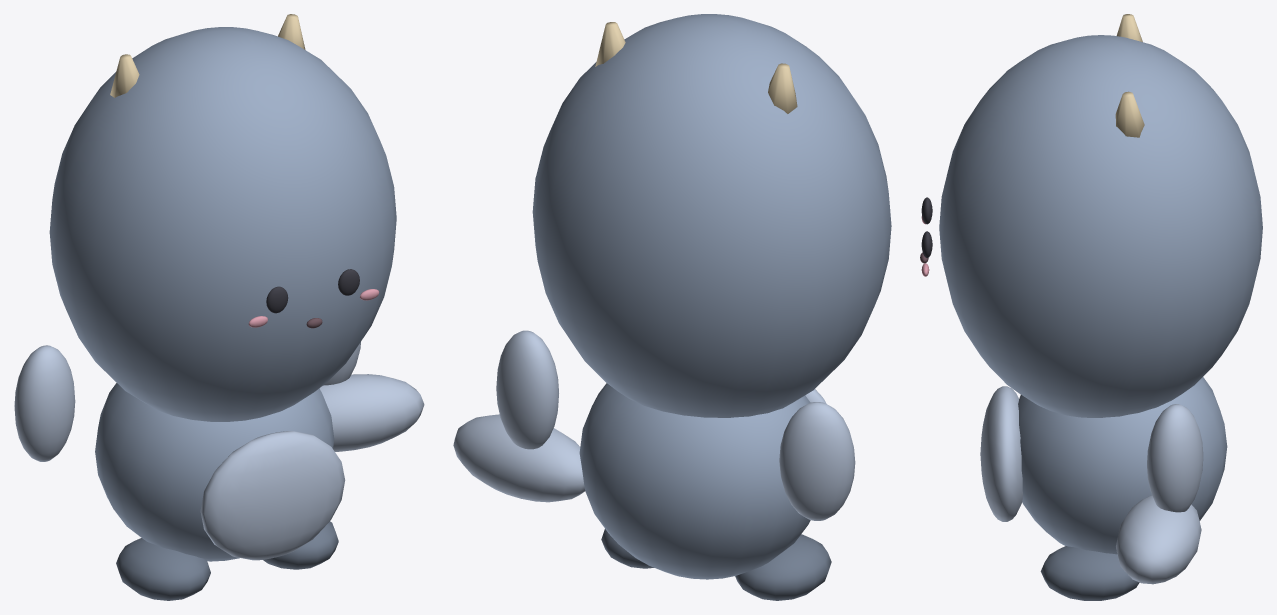
The model's file is tiny-wing-dragon.glb.
3 renders of one model, left to right at view 1: azimuth 30°, elevation 25°; view 2: azimuth 150°, elevation 25°; view 3: azimuth 270°, elevation 25°, orthographic. The views are drawn at different scales.
Visible parts, largest first — view 1: Head, Body, Belly, Tail, Wing_L, FootPad_L, FootPad_R, Horn_L, Horn_R; view 2: Head, Body, Tail, Wing_L, Wing_R, FootPad_L, Horn_L, Horn_R, FootPad_R; view 3: Head, Body, Tail, Wing_R, Belly, FootPad_R, Horn_R, Horn_L.
Part boxes in pixels (x1=…): Head: x1=49, y1=27, x2=396, y2=421; Body: x1=95, y1=383, x2=334, y2=561; Belly: x1=200, y1=431, x2=345, y2=560; Tail: x1=319, y1=374, x2=424, y2=451; Wing_L: x1=14, y1=345, x2=75, y2=461; FootPad_L: x1=116, y1=538, x2=210, y2=600; FootPad_R: x1=263, y1=521, x2=338, y2=569; Horn_L: x1=110, y1=54, x2=139, y2=97; Horn_R: x1=278, y1=14, x2=305, y2=49; Head: x1=532, y1=14, x2=891, y2=417; Body: x1=579, y1=383, x2=810, y2=579; Tail: x1=453, y1=414, x2=585, y2=502; Wing_L: x1=779, y1=402, x2=855, y2=520; Wing_R: x1=496, y1=330, x2=558, y2=449; FootPad_L: x1=735, y1=534, x2=831, y2=600; Horn_L: x1=768, y1=63, x2=797, y2=113; Horn_R: x1=595, y1=22, x2=625, y2=66; FootPad_R: x1=601, y1=529, x2=653, y2=568; Head: x1=939, y1=35, x2=1262, y2=417; Body: x1=1018, y1=377, x2=1227, y2=554; Tail: x1=1116, y1=495, x2=1201, y2=584; Wing_R: x1=1147, y1=404, x2=1203, y2=512; Belly: x1=980, y1=386, x2=1022, y2=521; FootPad_R: x1=1040, y1=546, x2=1139, y2=600; Horn_R: x1=1115, y1=91, x2=1144, y2=137; Horn_L: x1=1116, y1=14, x2=1142, y2=41.
Bounding box in the file's own units: 0.7999 × 1.04 × 0.625.
